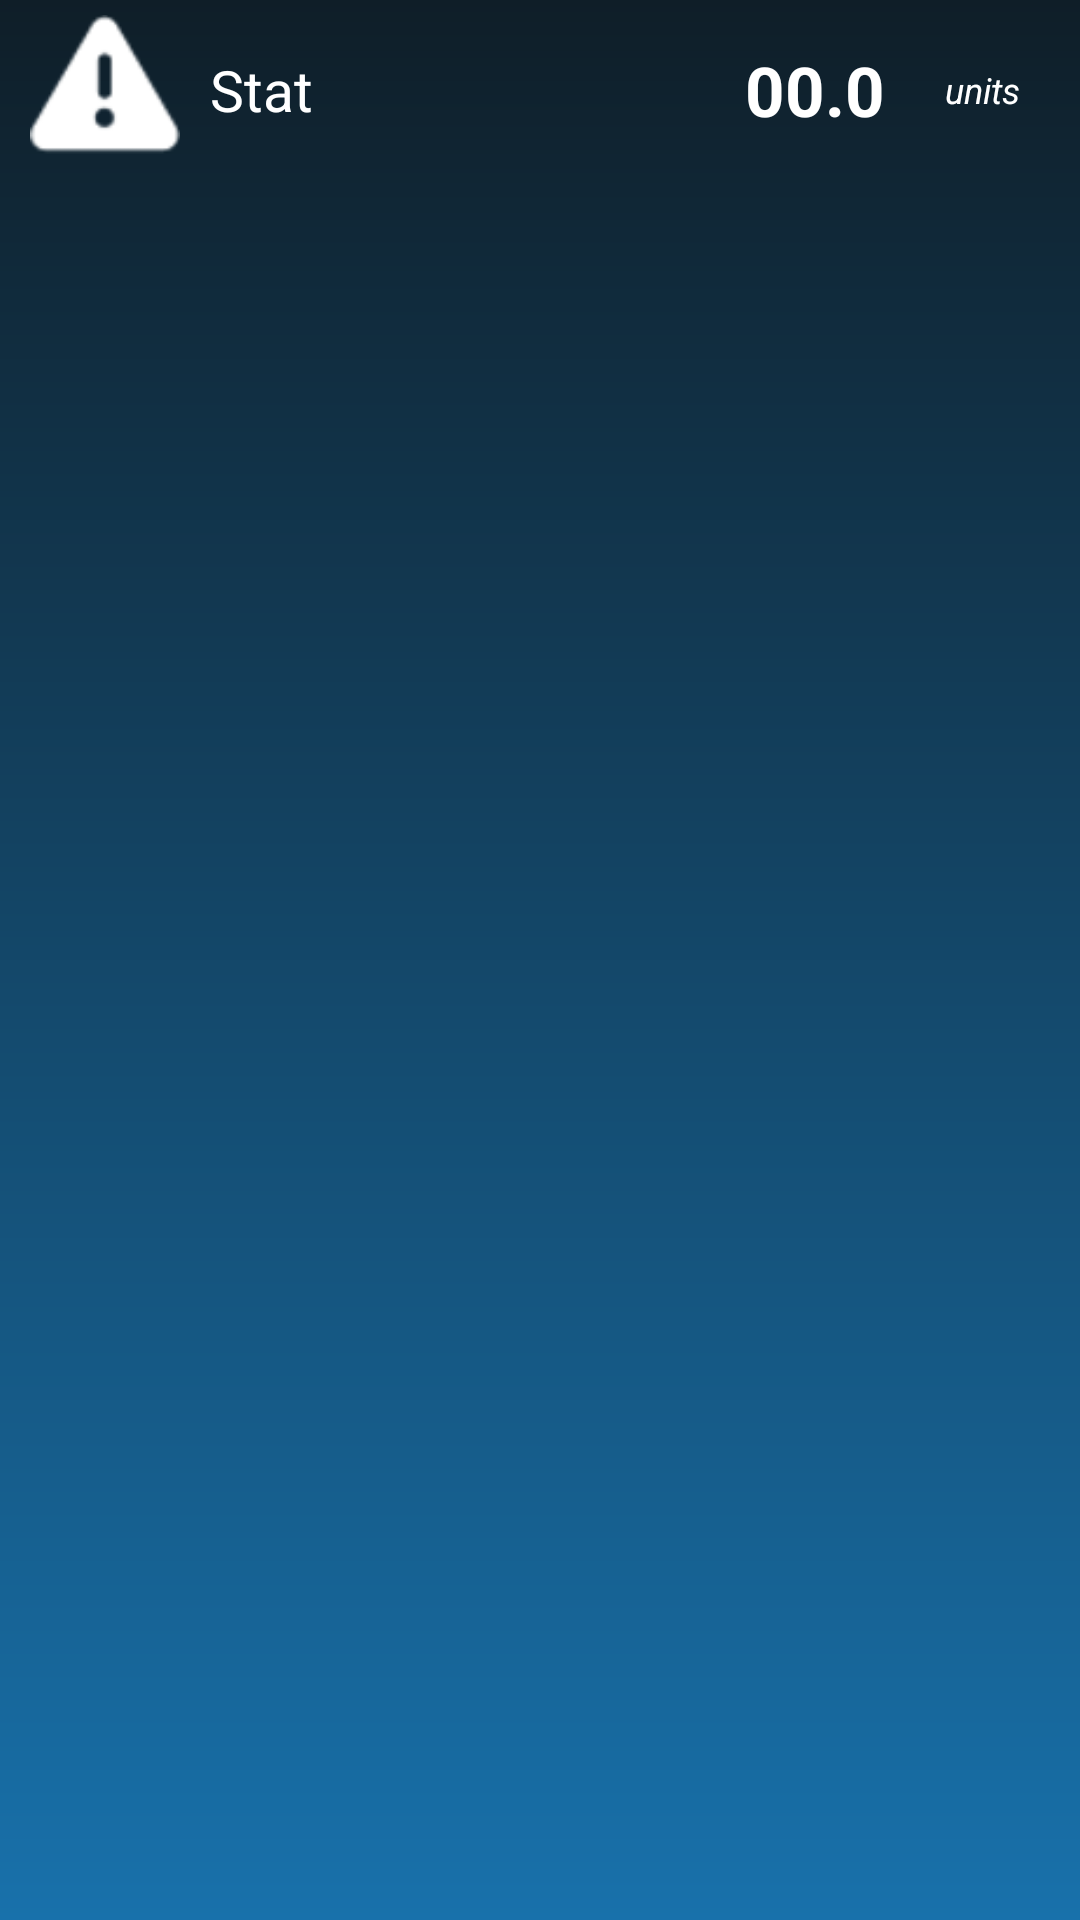

Screen size 1080w x 1920h. Icon name, then its box in pixels as box(x1, y1, x2, y2):
alert: box(30, 15, 180, 152)
